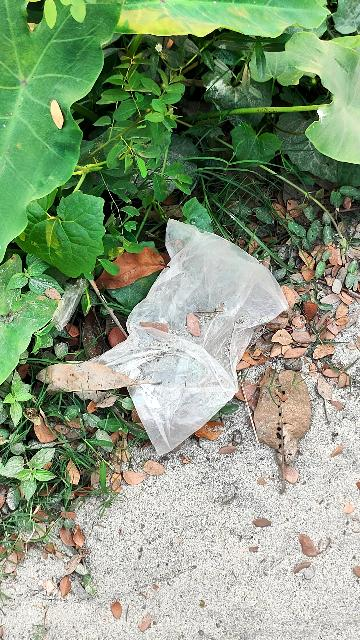polythene: (54, 202, 301, 452)
